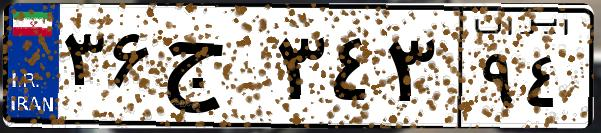3: (270, 28, 330, 110), (385, 28, 445, 110), (57, 26, 110, 100)
4: (330, 28, 385, 110), (525, 38, 570, 115)
6: (110, 28, 158, 98)
9: (475, 38, 525, 113)
ج: (158, 20, 270, 120)
